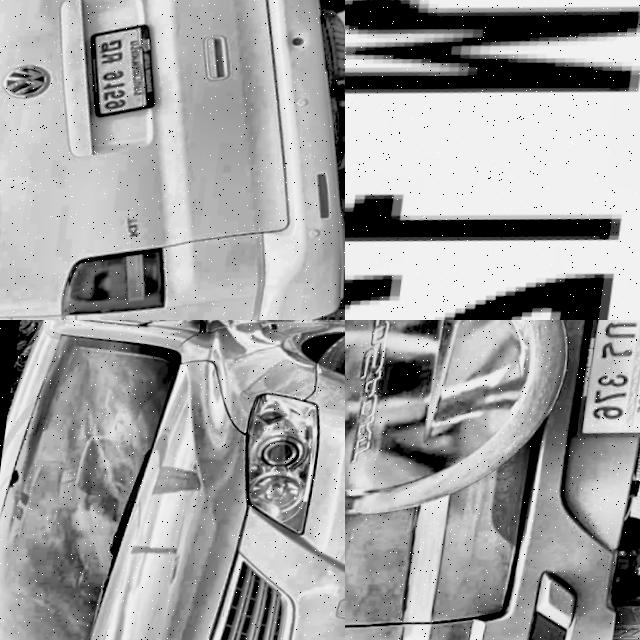license-plate: (345, 0, 640, 320), (75, 24, 170, 130), (572, 320, 640, 459)
